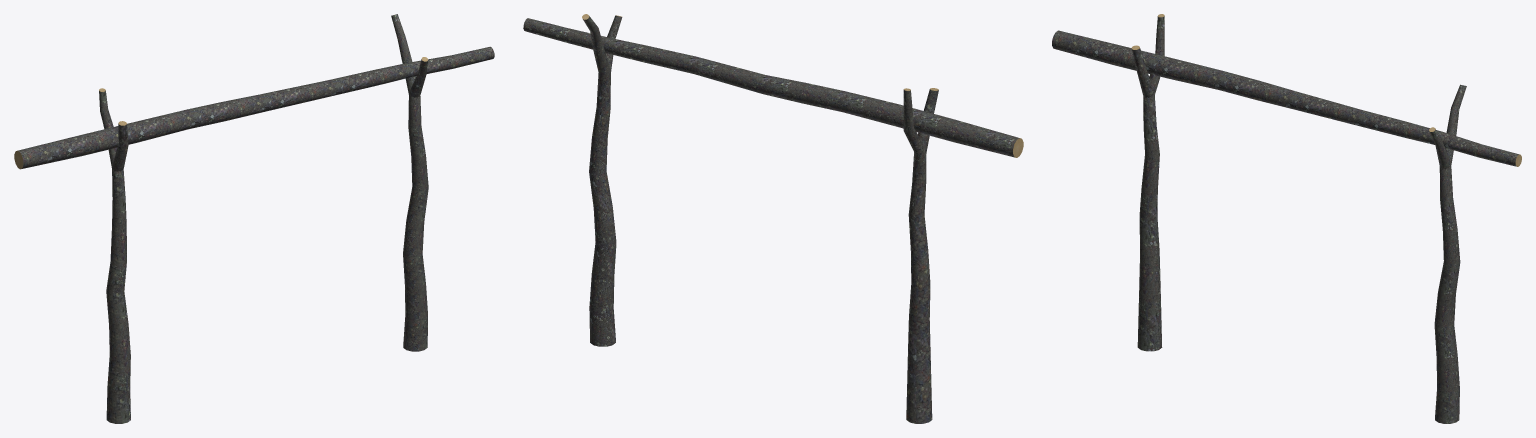
The model's file is campfire sticks.fbx.
3 renders of one model, left to right at view 1: azimuth 30°, elevation 25°; view 2: azimuth 150°, elevation 25°; view 3: azimuth 330°, elevation 25°, orthographic. The views are drawn at different scales.
Parts seen in each view (by area): view 1: campfire stick accross, campfire stick 2, campfire stick 1; view 2: campfire stick accross, campfire stick 2, campfire stick 1; view 3: campfire stick accross, campfire stick 2, campfire stick 1.
Part boxes in pixels (left/top/right/bottom): campfire stick accross: left=14, top=46, right=494, bottom=169; campfire stick 2: left=99, top=88, right=130, bottom=423; campfire stick 1: left=391, top=14, right=428, bottom=351; campfire stick accross: left=523, top=18, right=1023, bottom=157; campfire stick 2: left=903, top=88, right=938, bottom=423; campfire stick 1: left=582, top=14, right=622, bottom=346; campfire stick accross: left=1052, top=30, right=1521, bottom=166; campfire stick 2: left=1131, top=14, right=1164, bottom=351; campfire stick 1: left=1429, top=84, right=1466, bottom=423.
Bounding box in the file's own units: 433 × 54.37 × 283.
